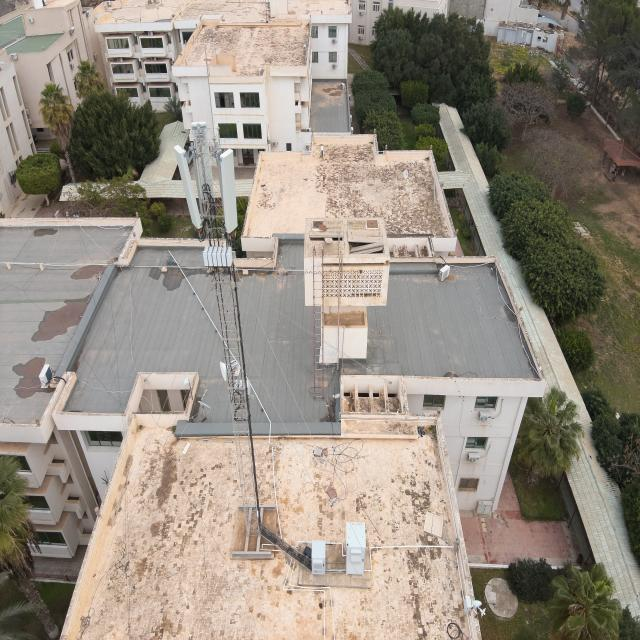antenna: (172, 142, 207, 230), (188, 121, 216, 205), (218, 147, 241, 235)
lighnig-rad: (201, 44, 218, 140)
microware-dish: (218, 359, 242, 381)
power-box: (230, 377, 252, 400)
radio-unit: (203, 244, 234, 269)
